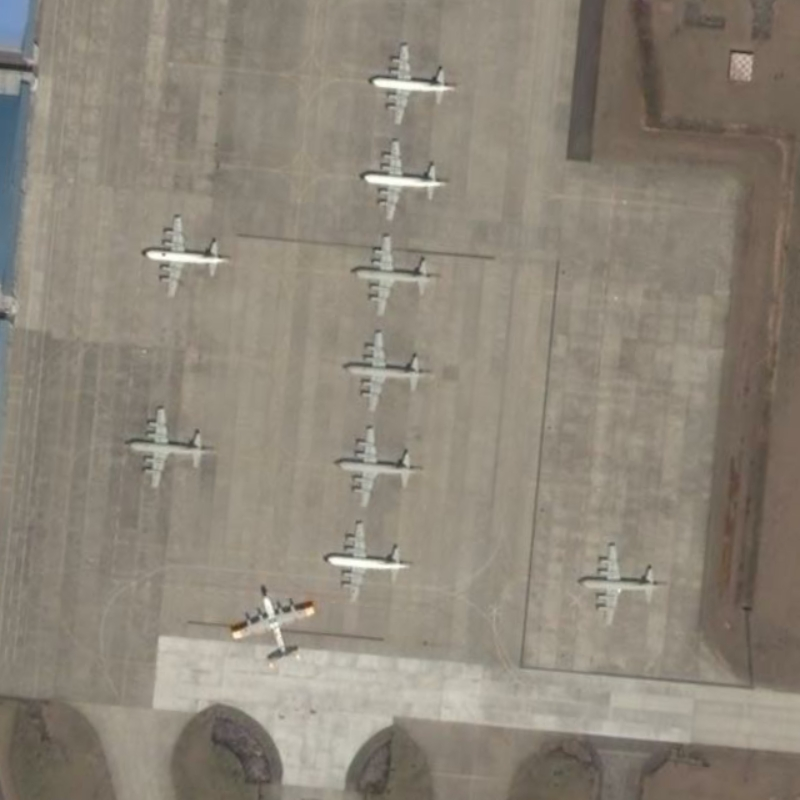A2: (229, 578, 319, 665)
A9: (573, 533, 675, 634), (339, 322, 443, 418), (343, 225, 446, 321), (133, 204, 236, 299), (120, 398, 219, 494), (321, 515, 415, 613), (364, 36, 459, 131), (332, 418, 424, 515), (352, 133, 448, 222)
